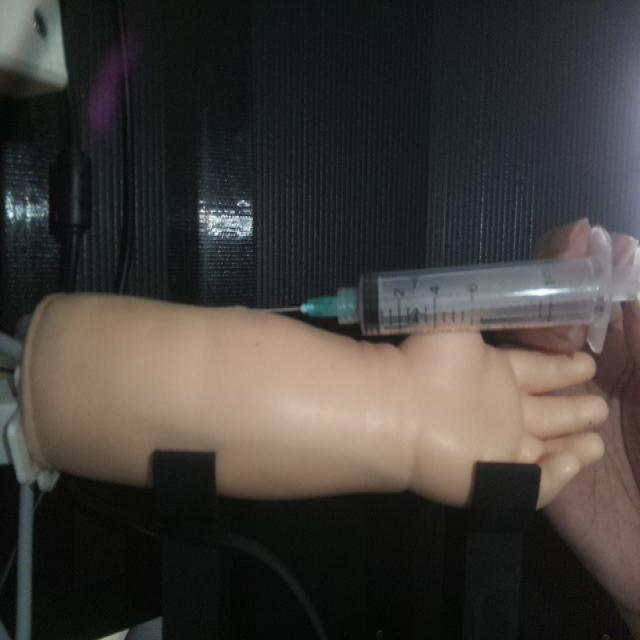Outside: (264, 227, 639, 353)
